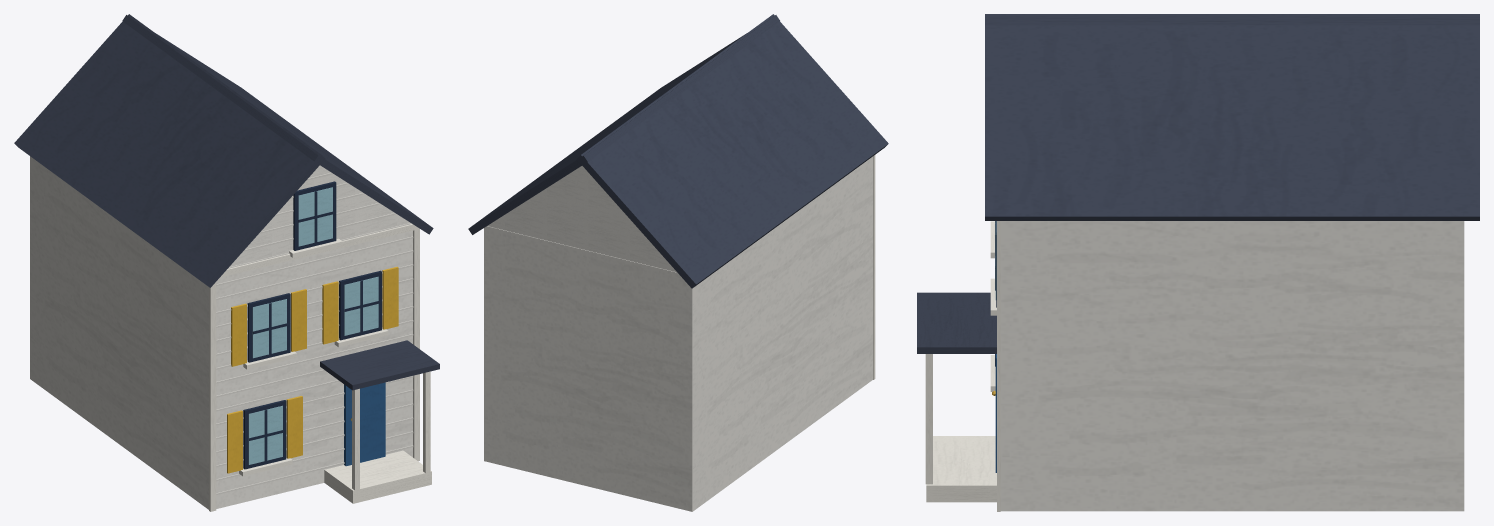
File: townhouse_white.glb
3 views of the same model, side by side, from view 1: azimuth 30°, elevation 25°; view 2: azimuth 150°, elevation 25°; view 3: azimuth 270°, elevation 25° (orthographic). The views are drawn at different scales.
Parts seen in each view (by area): view 1: townhouse; view 2: townhouse; view 3: townhouse.
Boxes of the visible parts, <box> form: townhouse: <box>14,14,439,511</box>; townhouse: <box>468,14,888,511</box>; townhouse: <box>917,14,1479,511</box>.
Size of the model in its own units: 5.47 by 7.69 by 9.1.
12 materials, 12 textured.
